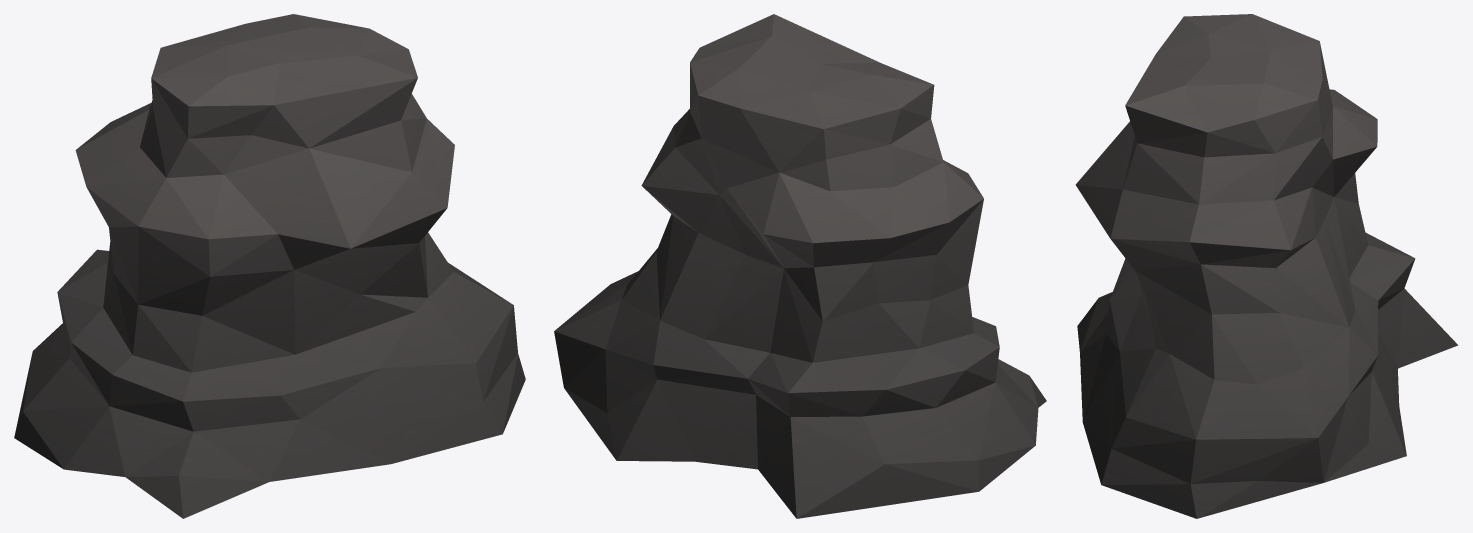
Rendered from ZLP_Rock_D_8.FBX.
The picture shows the model from 3 angles, left to right: view 1: azimuth 30°, elevation 25°; view 2: azimuth 150°, elevation 25°; view 3: azimuth 270°, elevation 25°; orthographic projection. The views are drawn at different scales.
Parts seen in each view (by area): view 1: ZLP_Rock_D_8; view 2: ZLP_Rock_D_8; view 3: ZLP_Rock_D_8.
Part boxes in pixels (box(x1,y1,x2,y2)): ZLP_Rock_D_8: box(14, 14, 525, 518); ZLP_Rock_D_8: box(554, 14, 1046, 518); ZLP_Rock_D_8: box(1075, 14, 1457, 518).
Size of the model in its own units: 134 by 104 by 102.
